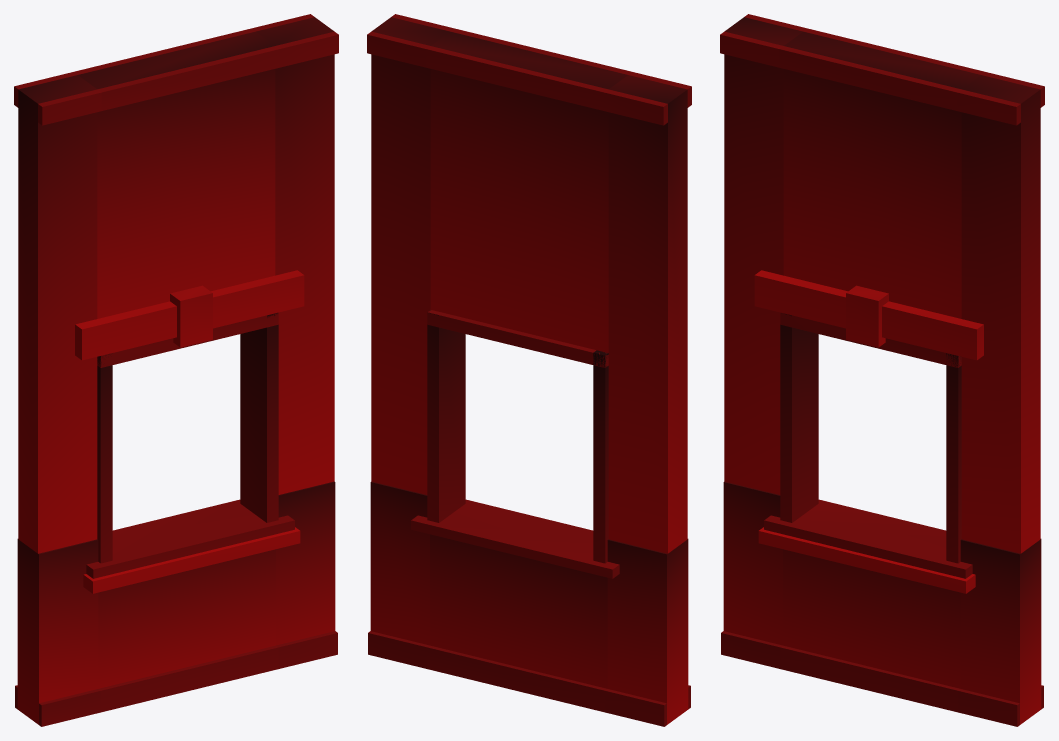
Rendered from wall_window_2m_exterior.glb.
3 views of the same model, side by side, from view 1: azimuth 30°, elevation 25°; view 2: azimuth 150°, elevation 25°; view 3: azimuth 330°, elevation 25° (orthographic).
Visible parts, largest first — view 1: wall_window_2m_exterior; view 2: wall_window_2m_exterior; view 3: wall_window_2m_exterior.
Boxes of the visible parts, left/top/right/bottom form: wall_window_2m_exterior: left=14, top=14, right=338, bottom=726; wall_window_2m_exterior: left=367, top=14, right=691, bottom=726; wall_window_2m_exterior: left=720, top=14, right=1044, bottom=726.
Size of what is drawn, in the model's own units: 2 by 4 by 0.44.
